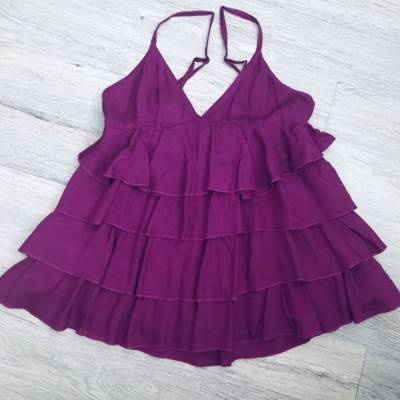Dress: (4, 11, 392, 368)
